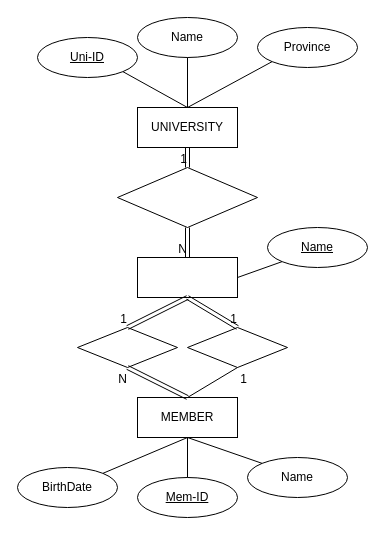
Some shapes in this 385 by 535 pixel diagram are drawn without their labels. Here are the shapes that lost their labels. From the top down, the centre of each, then its label:
point 187,197: REPRESENTED_BY
point 187,277: TEAM
point 127,347: HAVE
point 237,347: LED_BY
